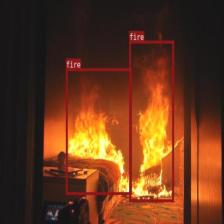fire: (66, 68, 132, 194), (129, 40, 174, 201)
